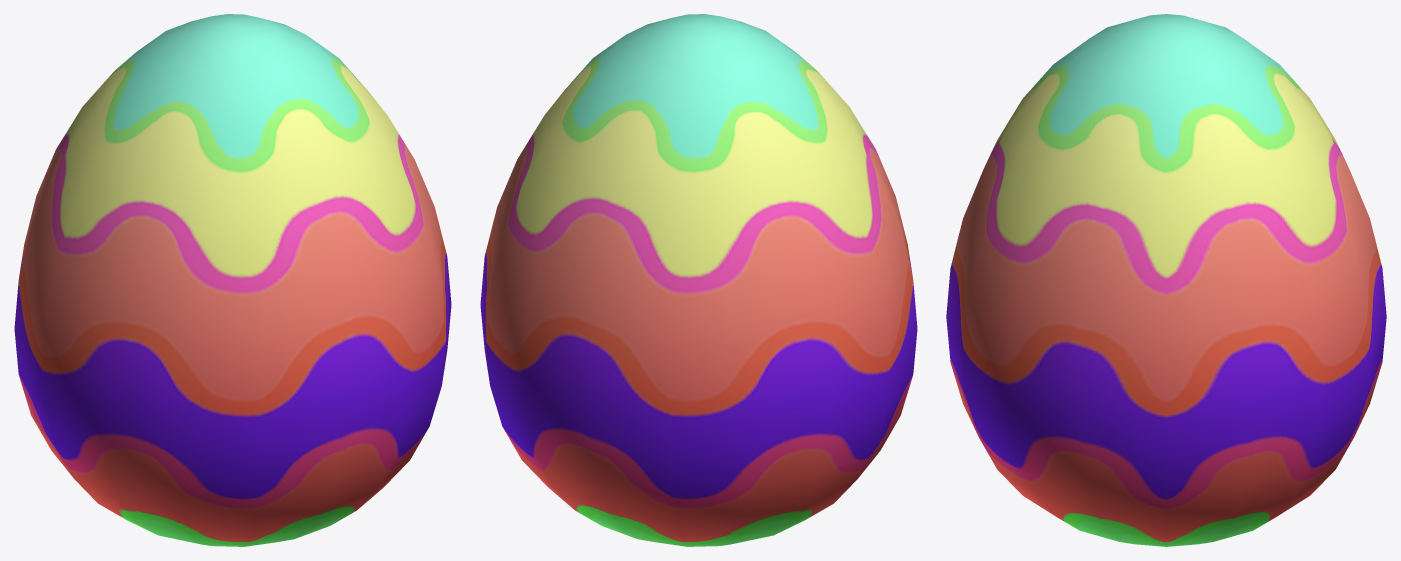
File: Egg.fbx
The picture shows the model from 3 angles, left to right: view 1: azimuth 30°, elevation 25°; view 2: azimuth 150°, elevation 25°; view 3: azimuth 270°, elevation 25°; orthographic projection.
Parts seen in each view (by area): view 1: Egg; view 2: Egg; view 3: Egg.
Boxes of the visible parts, x1,y1,x2,y2 form: Egg: [14, 14, 451, 546]; Egg: [480, 14, 917, 546]; Egg: [946, 14, 1386, 546].
Bounding box in the file's own units: 36.85 × 46.21 × 36.85.
1 material, 1 textured.
